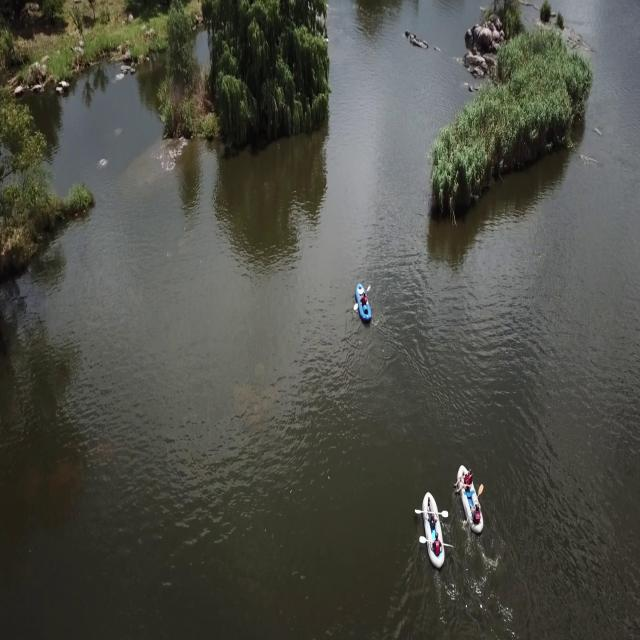kayak: (416, 488, 450, 568), (452, 459, 486, 535), (351, 277, 375, 330)
